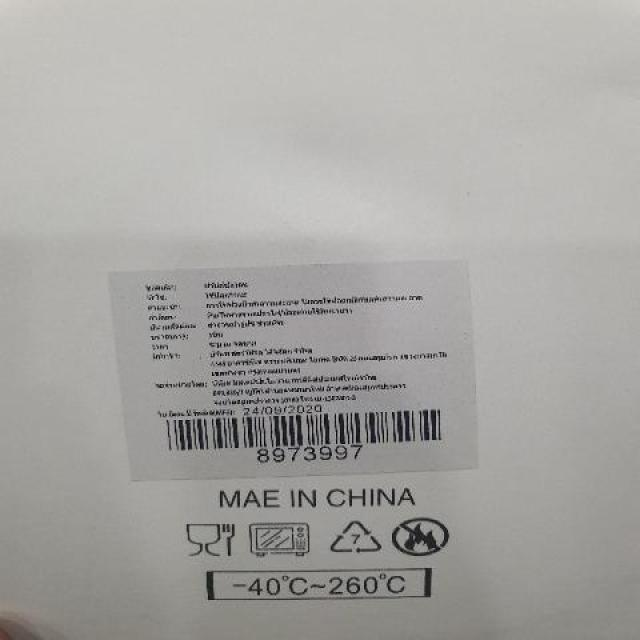Barcode: (156, 404, 456, 465)
